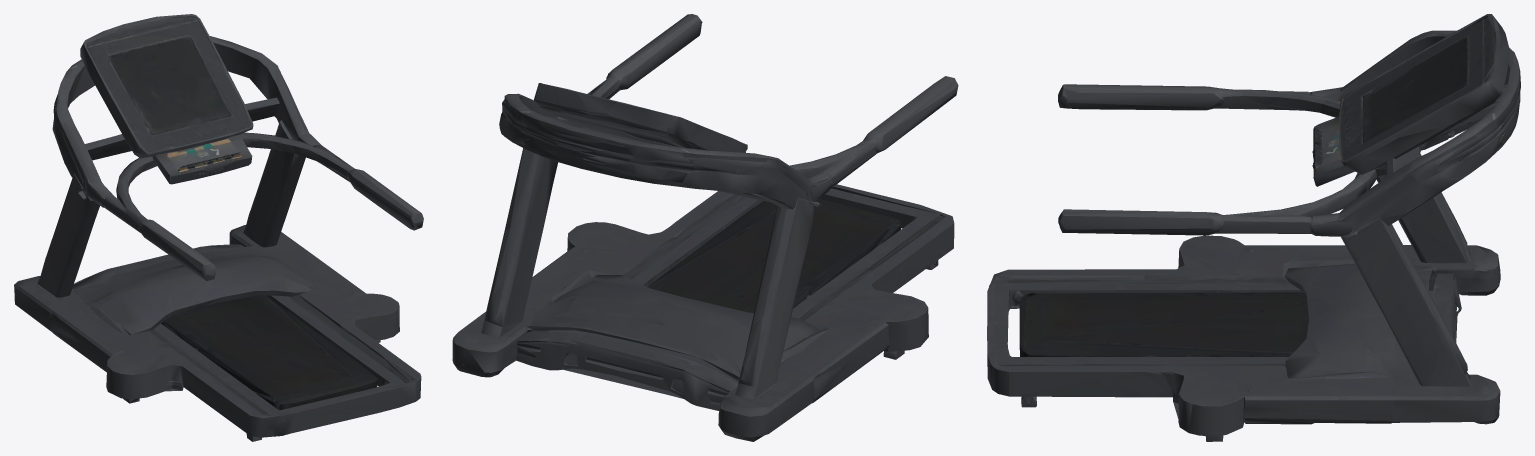
File: treadmill-v1.glb
3 views of the same model, side by side, from view 1: azimuth 30°, elevation 25°; view 2: azimuth 150°, elevation 25°; view 3: azimuth 270°, elevation 25° (orthographic). The views are drawn at different scales.
Bounding box in the file's own units: 1.44 × 1.27 × 1.9.
Materials: 1 (1 with a texture image).
